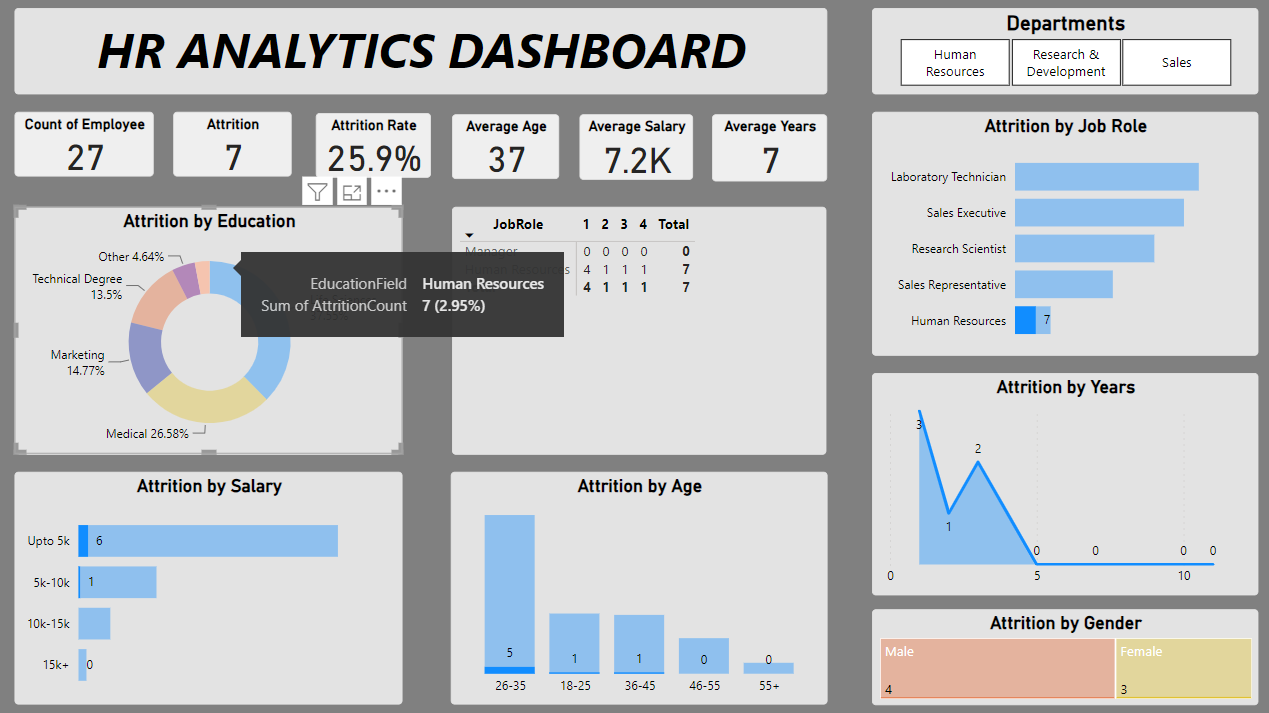

What the dashboard file says about the page in this screenshot:
{"tool":"powerbi","page":{"name":"Page 1","canvas":[1280,720],"ordinal":0},"visuals":[{"type":"card","title":"Count of Employee","fields":{"Values":["CountNonNull(HR_Analytics.EmpID)"]},"box":[17,113.8,139.4,64.9],"z":0},{"type":"card","title":"Attrition","fields":{"Values":["Sum(HR_Analytics.AttritionCount)"]},"box":[176.6,113.8,118.1,64.9],"z":1000},{"type":"card","title":"Attrition Rate","fields":{"Values":["HR_Analytics.AttritionRate"]},"box":[319.1,114.9,114.9,64.9],"z":2000},{"type":"card","title":"Average Age ","fields":{"Values":["Avg(HR_Analytics.Age)"]},"box":[455.3,116,107.4,64.9],"z":3000},{"type":"card","title":"Average Salary","fields":{"Values":["Avg(HR_Analytics.MonthlyIncome)"]},"box":[583,116,113.8,66],"z":4000},{"type":"card","title":"Average Years ","fields":{"Values":["Avg(HR_Analytics.YearsAtCompany)"]},"box":[714.9,116,114.9,67],"z":5000},{"type":"donutChart","title":"Attrition by Education","fields":{"Category":["HR_Analytics.EducationField"],"Y":["Sum(HR_Analytics.AttritionCount)"]},"box":[17,208.5,388.3,247.9],"z":6000},{"type":"columnChart","title":"Attrition by Age","fields":{"Category":["HR_Analytics.AgeGroup"],"Y":["Sum(HR_Analytics.AttritionCount)"]},"box":[453.2,473.4,376.6,233],"z":7000},{"type":"pivotTable","fields":{"Rows":["HR_Analytics.JobRole"],"Columns":["HR_Analytics.JobSatisfaction"],"Values":["Sum(HR_Analytics.AttritionCount)"]},"box":[455.3,208.5,374.5,247.9],"z":8000},{"type":"barChart","title":"Attrition by Salary","fields":{"Category":["HR_Analytics.SalarySlab"],"Y":["Sum(HR_Analytics.AttritionCount)"]},"box":[17,473.4,388.3,233],"z":9000},{"type":"barChart","title":"Attrition by Job Role","fields":{"Category":["HR_Analytics.JobRole"],"Y":["Sum(HR_Analytics.AttritionCount)"]},"box":[875.5,113.8,386.2,243.6],"z":10000},{"type":"areaChart","title":"Attrition by Years","fields":{"Category":["HR_Analytics.YearsAtCompany"],"Y":["Sum(HR_Analytics.AttritionCount)"]},"box":[875,375,386.2,222.5],"z":11000},{"type":"treemap","title":"Attrition by Gender","fields":{"Group":["HR_Analytics.Gender"],"Values":["Sum(HR_Analytics.AttritionCount)"]},"box":[875.5,610.6,386.2,95.7],"z":12000},{"type":"slicer","title":"Departments","fields":{"Values":["HR_Analytics.Department"]},"box":[875.5,9.6,386.2,86.2],"z":13000},{"type":"textbox","box":[17,9.6,812.8,86.2],"z":14000}]}

Visuals, with their boxes in screenshot pixels (x1, y1, x2, y2), scaled from the page's 1280x720 canvas onto the 1269x713 screenshot:
"Count of Employee" card: box=[17, 113, 155, 177]
"Attrition" card: box=[175, 113, 292, 177]
"Attrition Rate" card: box=[316, 114, 430, 178]
"Average Age " card: box=[451, 115, 558, 179]
"Average Salary" card: box=[578, 115, 691, 180]
"Average Years " card: box=[709, 115, 823, 181]
"Attrition by Education" donutChart: box=[17, 206, 402, 452]
"Attrition by Age" columnChart: box=[449, 469, 823, 700]
pivotTable - HR_Analytics.JobRole x HR_Analytics.JobSatisfaction: box=[451, 206, 823, 452]
"Attrition by Salary" barChart: box=[17, 469, 402, 700]
"Attrition by Job Role" barChart: box=[868, 113, 1251, 354]
"Attrition by Years" areaChart: box=[867, 371, 1250, 592]
"Attrition by Gender" treemap: box=[868, 605, 1251, 699]
"Departments" slicer: box=[868, 10, 1251, 95]
textbox: box=[17, 10, 823, 95]
